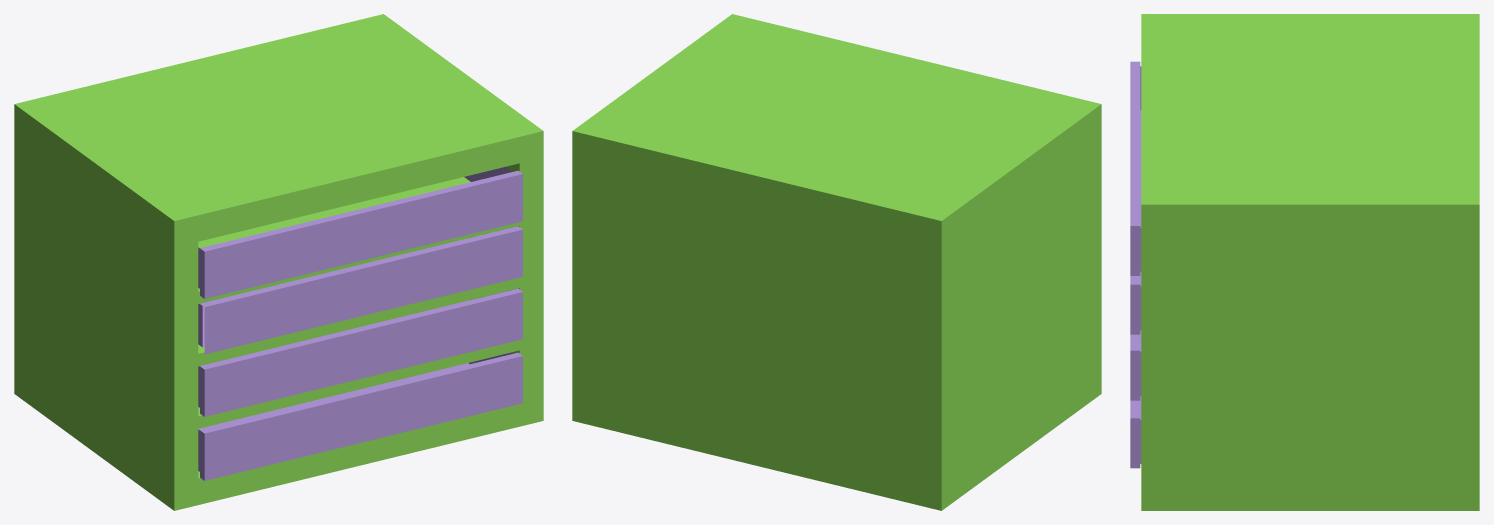
File: ladekast.obj
3 renders of one model, left to right at view 1: azimuth 30°, elevation 25°; view 2: azimuth 150°, elevation 25°; view 3: azimuth 270°, elevation 25°, orthographic. The views are drawn at different scales.
Visible parts, largest first — view 1: kastje, lade_1, lade_4, lade_2, lade_3; view 2: kastje; view 3: kastje, lade_4, lade_1, lade_2, lade_3.
Part boxes in pixels (<box>): kastje: <box>14,14,543,510</box>; lade_1: <box>198,352,522,480</box>; lade_4: <box>198,167,522,298</box>; lade_2: <box>198,288,522,416</box>; lade_3: <box>198,226,522,354</box>; kastje: <box>572,14,1101,510</box>; kastje: <box>1141,14,1479,510</box>; lade_4: <box>1130,61,1141,275</box>; lade_1: <box>1130,396,1141,468</box>; lade_2: <box>1130,330,1141,400</box>; lade_3: <box>1130,271,1141,334</box>.
Size of the model in its own units: 40 by 30 by 30.97.
